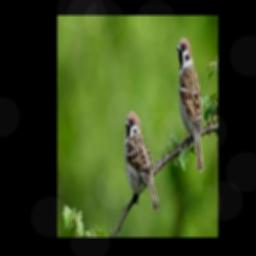Sparrow: (177, 36, 204, 172), (124, 109, 159, 210)
